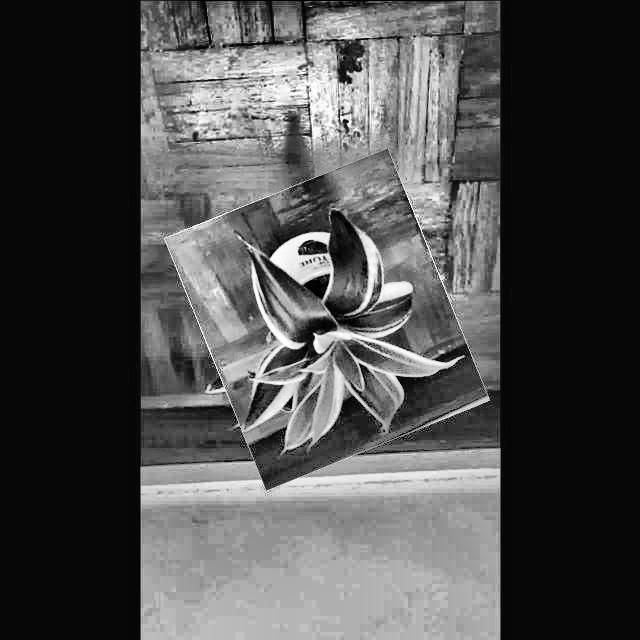plants: (185, 165, 468, 472)
